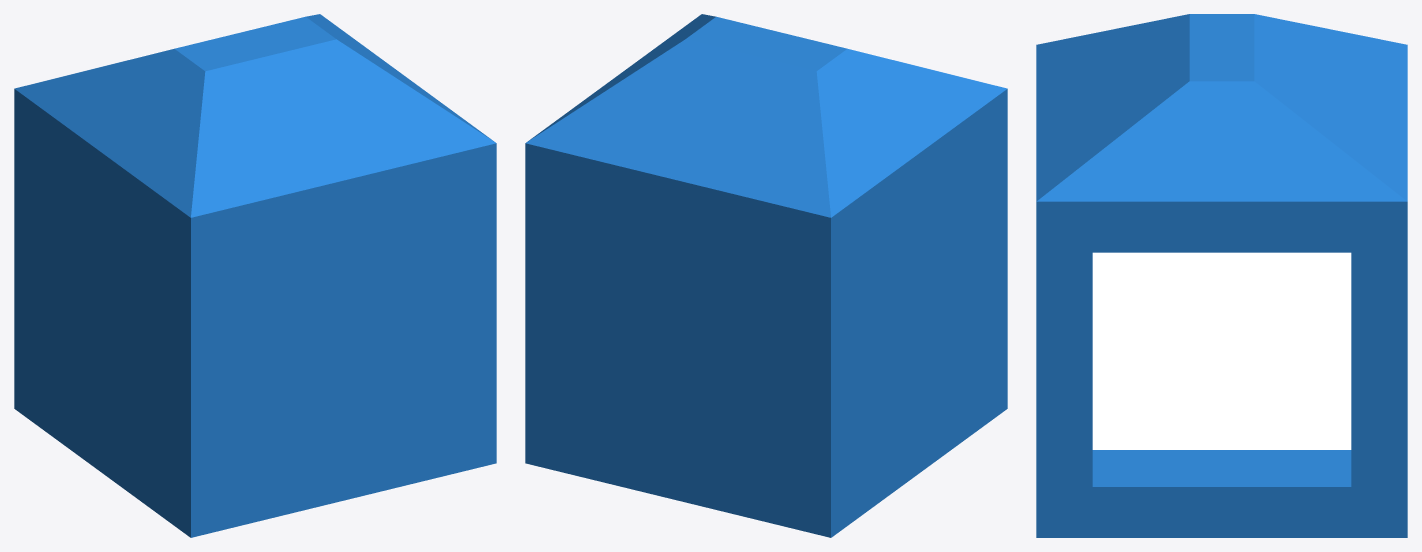
3 views of the same model, side by side, from view 1: azimuth 30°, elevation 25°; view 2: azimuth 150°, elevation 25°; view 3: azimuth 270°, elevation 25° (orthographic). The views are drawn at different scales.
Visible parts, largest first — view 1: Cube; view 2: Cube; view 3: Cube.
Boxes of the visible parts, x1,y1,x2,y2 form: Cube: [14, 14, 496, 537]; Cube: [525, 14, 1007, 537]; Cube: [1036, 14, 1407, 537].
Size of the model in its own units: 2 by 2.45 by 2.
